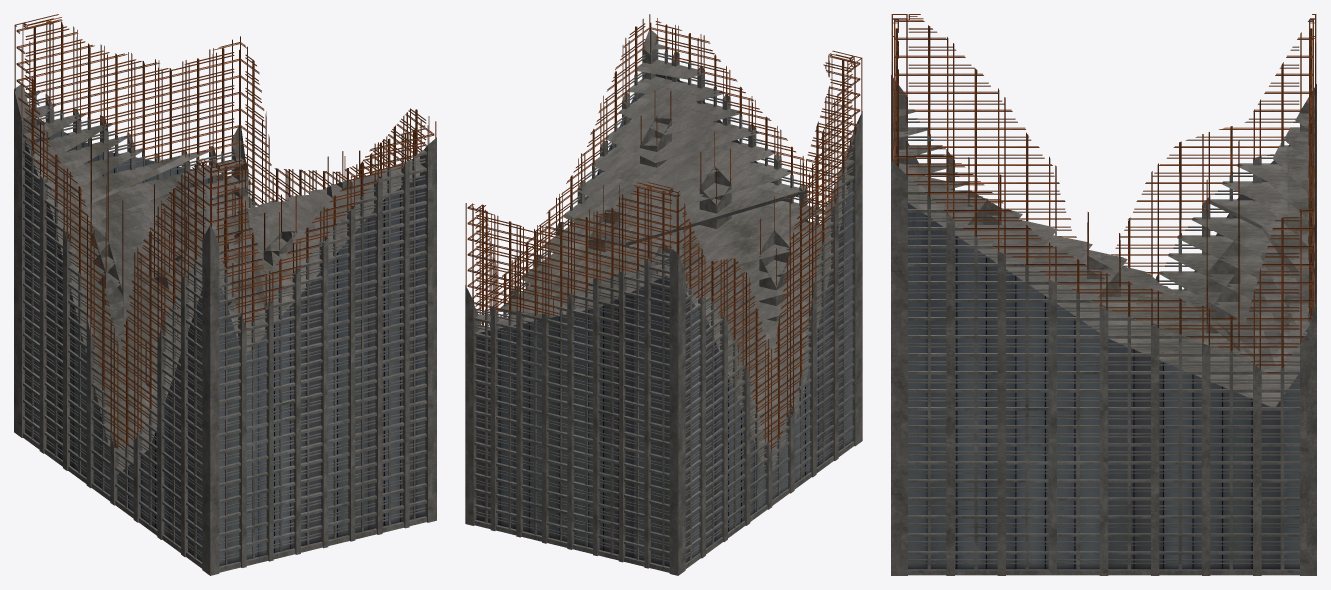
Rendered from building_02.glb.
3 views of the same model, side by side, from view 1: azimuth 30°, elevation 25°; view 2: azimuth 150°, elevation 25°; view 3: azimuth 270°, elevation 25° (orthographic). The views are drawn at different scales.
Parts seen in each view (by area): view 1: Building 02; view 2: Building 02; view 3: Building 02.
Part boxes in pixels (left/top/right/bottom): Building 02: left=14, top=14, right=436, bottom=575; Building 02: left=465, top=14, right=862, bottom=575; Building 02: left=891, top=14, right=1316, bottom=575.
Size of the model in its own units: 50 by 85.94 by 75.
Materials: 3 (3 with a texture image).
